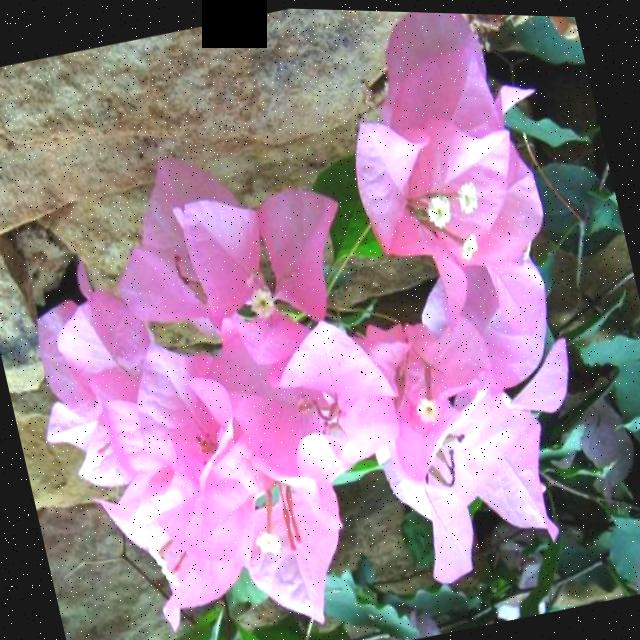bougainvillea: (315, 7, 566, 321), (360, 321, 616, 628), (60, 315, 294, 640), (162, 125, 414, 417), (200, 415, 375, 633)
